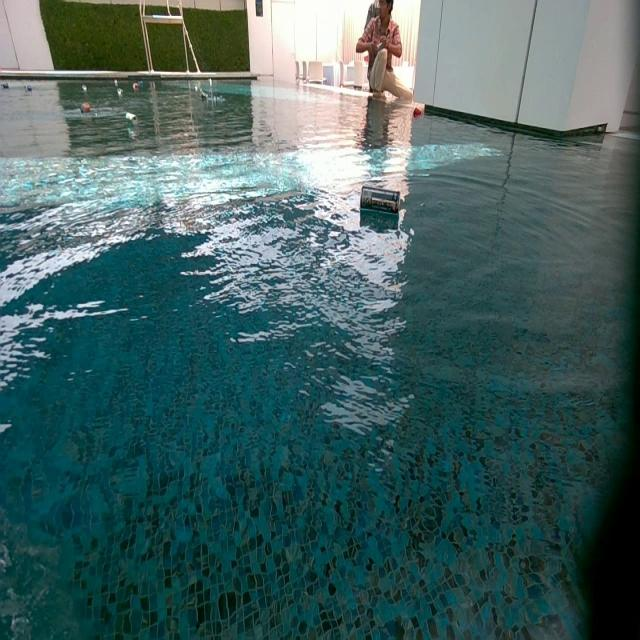Cans: (360, 187, 400, 217), (414, 104, 425, 117), (79, 103, 91, 114), (126, 111, 137, 123), (200, 90, 208, 104), (134, 81, 142, 91), (26, 85, 36, 92), (193, 82, 199, 91), (118, 87, 124, 96), (2, 83, 11, 88), (82, 84, 88, 90), (208, 78, 213, 84), (114, 80, 117, 87)
